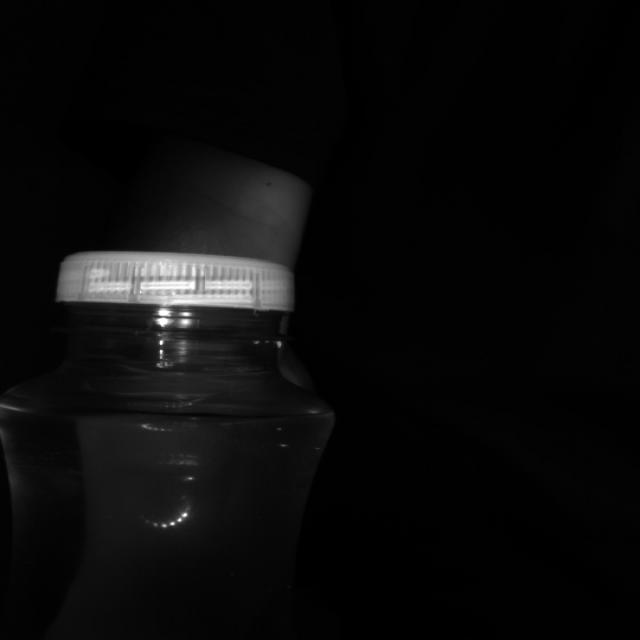Not Good: (58, 251, 295, 342)
